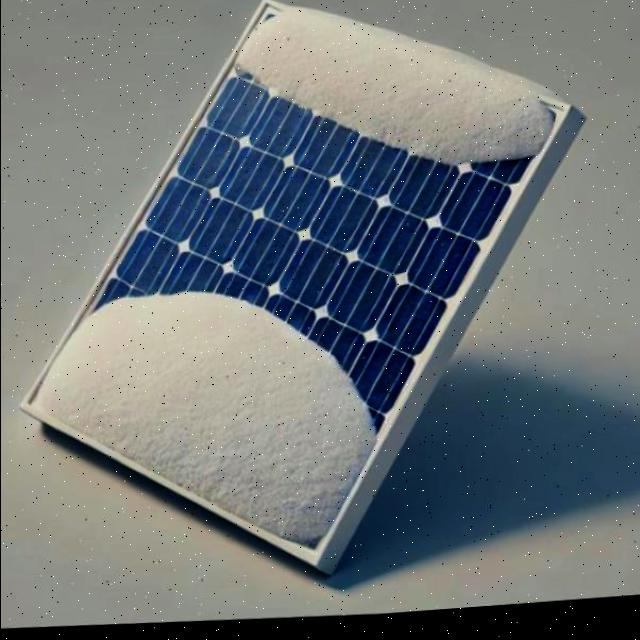Anomaly Solar Panel: (26, 0, 571, 563)
Snow: (30, 234, 411, 559), (227, 0, 572, 201)
